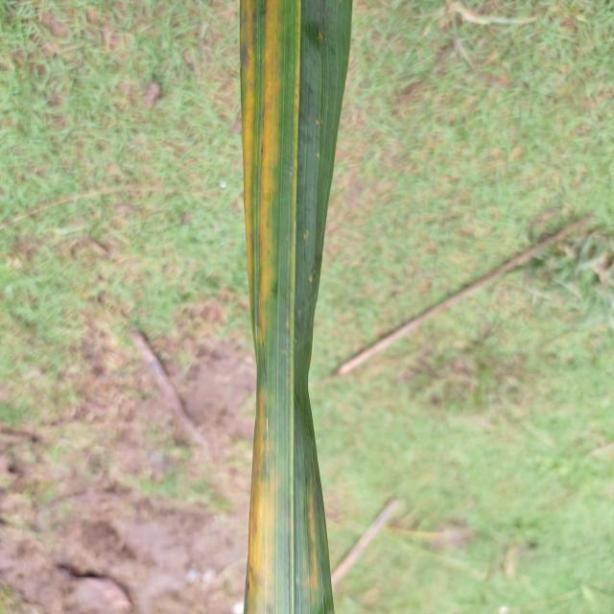Megnesium: (232, 0, 350, 614)
